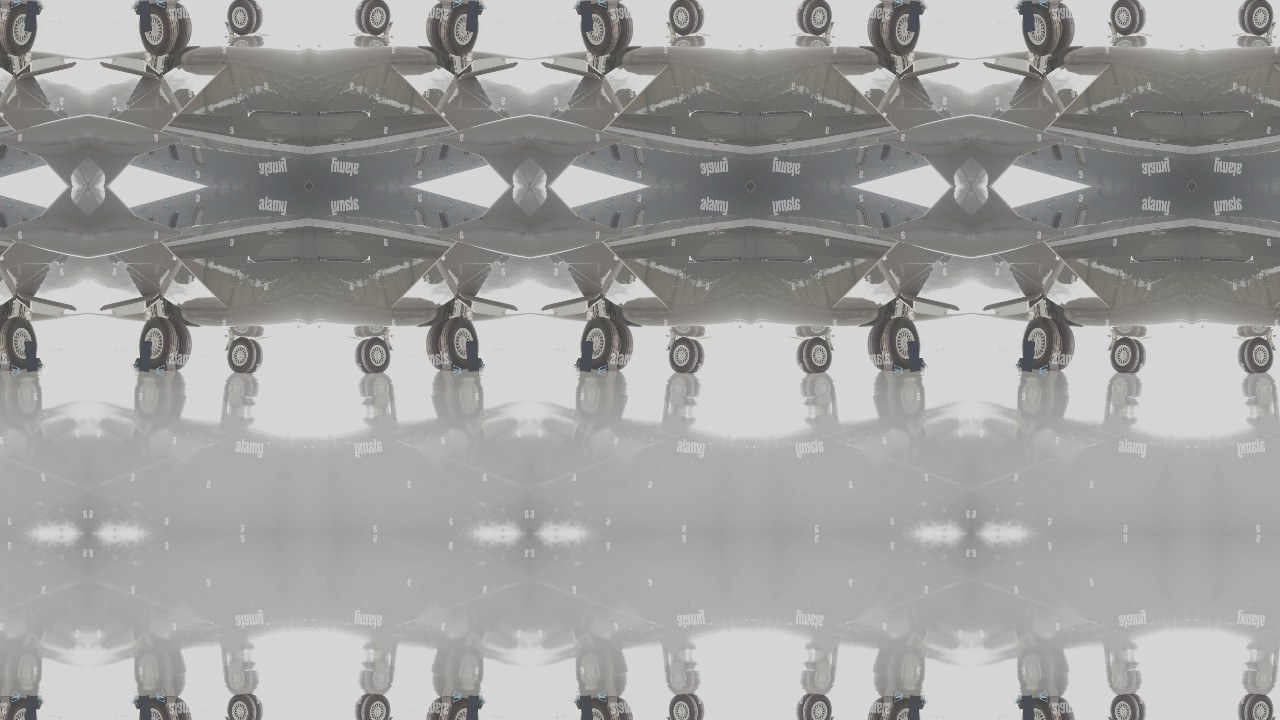chock: (157, 358, 178, 374), (439, 358, 460, 374), (599, 358, 620, 374), (881, 358, 902, 374), (1041, 358, 1062, 374), (157, 693, 178, 709), (439, 693, 460, 709), (599, 693, 620, 709), (881, 693, 902, 709), (1041, 693, 1062, 709), (157, 0, 178, 14), (439, 0, 460, 14), (599, 0, 620, 14), (881, 0, 902, 14), (1041, 0, 1062, 14), (0, 358, 18, 374), (0, 693, 18, 709), (0, 0, 18, 14), (25, 4, 43, 18), (132, 4, 150, 18), (467, 4, 485, 18), (574, 4, 592, 18), (909, 4, 927, 18), (1016, 4, 1034, 18), (25, 699, 43, 713), (132, 699, 150, 713), (467, 699, 485, 713), (574, 699, 592, 713), (909, 699, 927, 713), (1016, 699, 1034, 713), (25, 355, 43, 368), (132, 355, 150, 368), (467, 355, 485, 368), (574, 355, 592, 368), (909, 355, 927, 368), (1016, 355, 1034, 368)
wheel: (135, 315, 177, 370), (440, 315, 482, 370), (577, 315, 619, 370), (882, 315, 924, 370), (1019, 315, 1061, 370), (135, 3, 177, 57), (440, 3, 482, 57), (577, 3, 619, 57), (882, 3, 924, 57), (1019, 3, 1061, 57), (0, 315, 40, 370), (0, 3, 40, 57), (225, 335, 263, 375), (354, 335, 392, 375), (667, 335, 705, 375), (796, 335, 834, 375), (1109, 335, 1147, 375), (1238, 335, 1276, 375), (164, 1, 193, 52), (424, 1, 453, 52), (606, 1, 635, 52), (866, 1, 895, 52), (1048, 1, 1077, 52), (164, 321, 193, 371), (424, 321, 453, 371), (606, 321, 635, 371), (866, 321, 895, 371), (1048, 321, 1077, 371), (225, 0, 263, 37), (354, 0, 392, 37), (667, 0, 705, 37), (796, 0, 834, 37), (1109, 0, 1147, 37), (1238, 0, 1276, 37), (225, 693, 263, 720), (354, 693, 392, 720), (667, 693, 705, 720), (796, 693, 834, 720), (1109, 693, 1147, 720), (1238, 693, 1276, 720), (135, 698, 177, 720), (440, 698, 482, 720), (577, 698, 619, 720), (882, 698, 924, 720), (1019, 698, 1061, 720), (0, 698, 40, 720), (243, 0, 264, 34), (353, 0, 374, 34), (685, 0, 706, 34), (795, 0, 816, 34), (1127, 0, 1148, 34), (1237, 0, 1258, 34), (243, 339, 264, 373), (353, 339, 374, 373), (685, 339, 706, 373), (795, 339, 816, 373), (1127, 339, 1148, 373), (1237, 339, 1258, 373), (164, 696, 193, 720), (424, 696, 453, 720), (606, 696, 635, 720), (866, 696, 895, 720), (1048, 696, 1077, 720), (0, 1, 11, 52), (0, 321, 11, 371), (243, 694, 264, 720), (353, 694, 374, 720), (685, 694, 706, 720), (795, 694, 816, 720), (1127, 694, 1148, 720), (1237, 694, 1258, 720), (0, 696, 11, 720)
